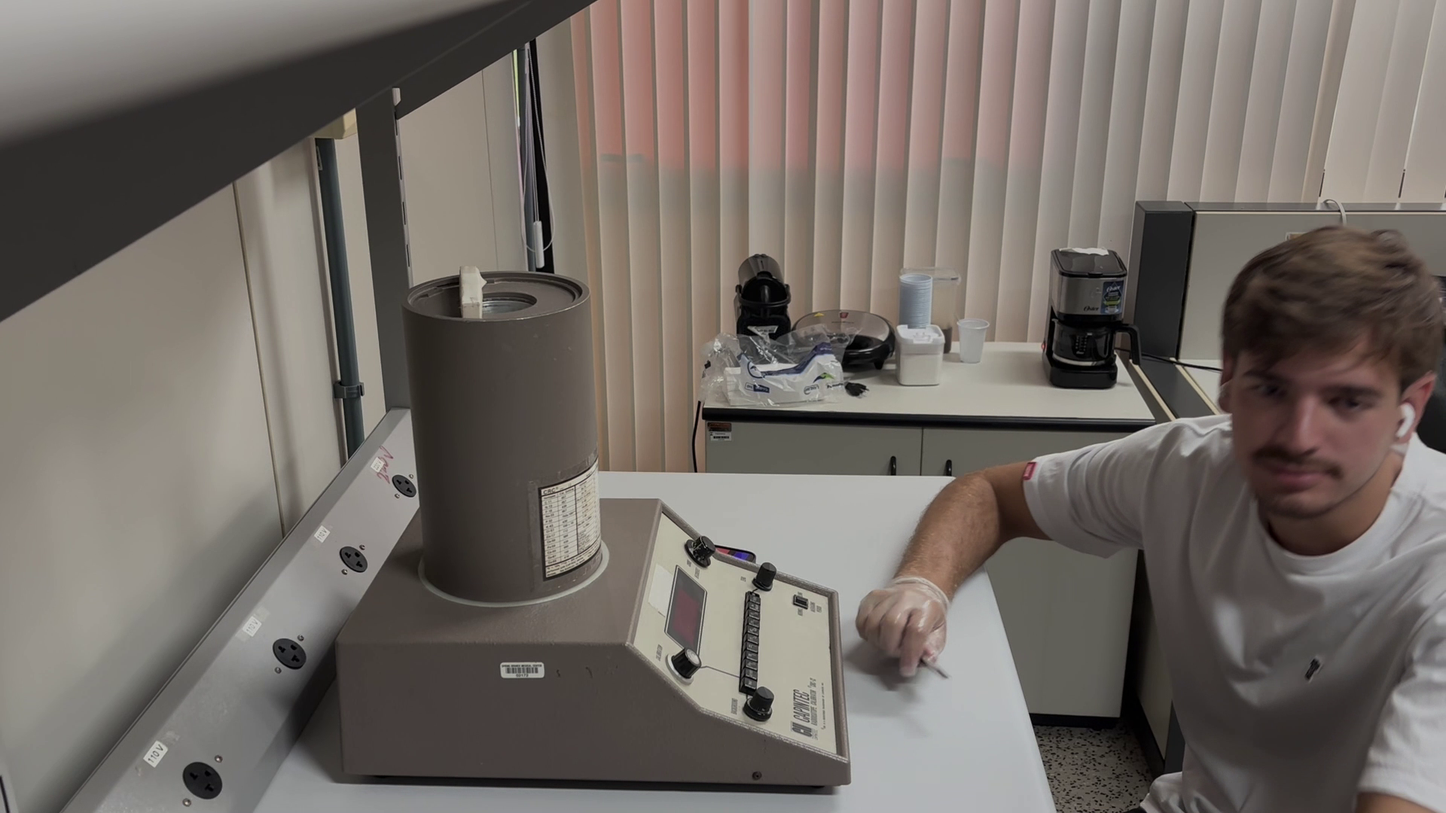Ativimetro: (398, 267, 609, 606)
Com_Luva: (857, 569, 952, 680)
